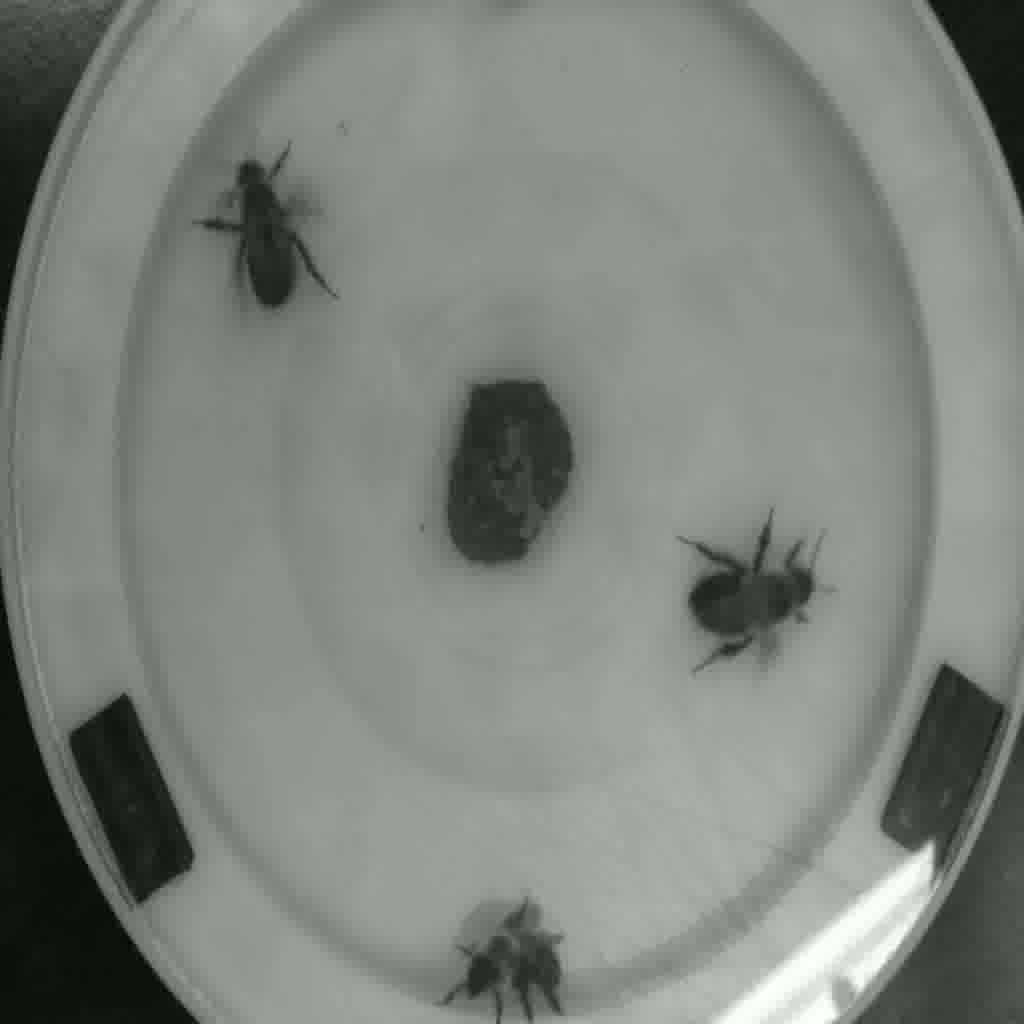bee: (172, 140, 348, 325), (425, 867, 606, 1024), (675, 506, 838, 665)
